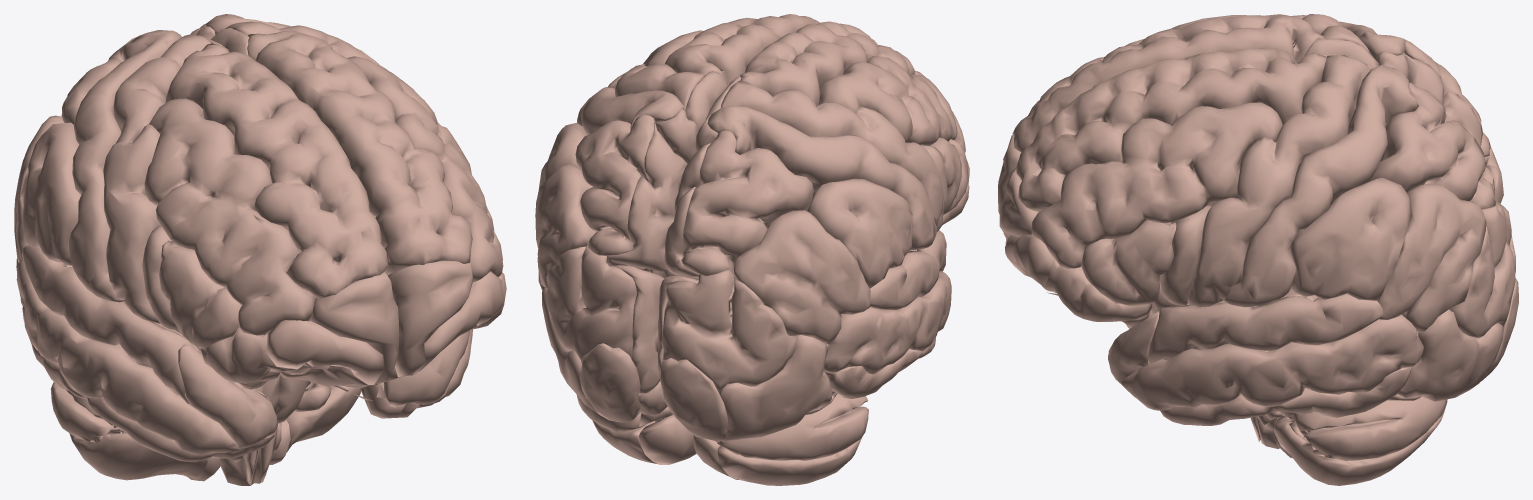
The model's file is PROP_Brain_Real_20261005.glb.
The picture shows the model from 3 angles, left to right: view 1: azimuth 30°, elevation 25°; view 2: azimuth 150°, elevation 25°; view 3: azimuth 270°, elevation 25°; orthographic projection. The views are drawn at different scales.
Parts seen in each view (by area): view 1: PROP_Brain_Real__Allen_superior_frontal_gyrus_L, PROP_Brain_Real__Allen_middle_frontal_gyrus_L, PROP_Brain_Real__Allen_superior_frontal_gyrus_R, PROP_Brain_Real__Allen_middle_temporal_gyrus_L, PROP_Brain_Real__Allen_primary_motor_cortex_L, PROP_Brain_Real__Allen_postcentral_gyrus_L, PROP_Brain_Real__Allen_superior_temporal_gyrus_L, PROP_Brain_Real__Allen_middle_frontal_gyrus_R, PROP_Brain_Real__Allen_supramarginal_gyrus_L, PROP_Brain_Real__Allen_rostral_gyrus_R, PROP_Brain_Real__Allen_lateral_hemisphere_of_cerebellum_L, PROP_Brain_Real__Allen_inferior_frontal_gyrus_triangular_par (+19 smaller); view 2: PROP_Brain_Real__Allen_angular_gyrus_L, PROP_Brain_Real__Allen_supraparietal_lobule_L, PROP_Brain_Real__Allen_superior_occipital_gyrus_L, PROP_Brain_Real__Allen_postcentral_gyrus_L, PROP_Brain_Real__Allen_lateral_hemisphere_of_cerebellum_L, PROP_Brain_Real__Allen_superior_occipital_gyrus_R, PROP_Brain_Real__Allen_supraparietal_lobule_R, PROP_Brain_Real__Allen_primary_motor_cortex_L, PROP_Brain_Real__Allen_supramarginal_gyrus_L, PROP_Brain_Real__Allen_middle_frontal_gyrus_L, PROP_Brain_Real__Allen_superior_frontal_gyrus_L, PROP_Brain_Real__Allen_middle_temporal_gyrus_L (+24 smaller); view 3: PROP_Brain_Real__Allen_middle_frontal_gyrus_R, PROP_Brain_Real__Allen_superior_frontal_gyrus_R, PROP_Brain_Real__Allen_middle_temporal_gyrus_R, PROP_Brain_Real__Allen_primary_motor_cortex_R, PROP_Brain_Real__Allen_postcentral_gyrus_R, PROP_Brain_Real__Allen_supramarginal_gyrus_R, PROP_Brain_Real__Allen_angular_gyrus_R, PROP_Brain_Real__Allen_superior_temporal_gyrus_R, PROP_Brain_Real__Allen_lateral_hemisphere_of_cerebellum_R, PROP_Brain_Real__Allen_superior_frontal_gyrus_L, PROP_Brain_Real__Allen_supraparietal_lobule_R, PROP_Brain_Real__Allen_inferior_frontal_gyrus_triangular_par (+16 smaller).
Boxes of the visible parts, x1=… form: PROP_Brain_Real__Allen_superior_frontal_gyrus_L: x1=165, y1=43, x2=388, y2=301; PROP_Brain_Real__Allen_middle_frontal_gyrus_L: x1=144, y1=98, x2=315, y2=335; PROP_Brain_Real__Allen_superior_frontal_gyrus_R: x1=247, y1=31, x2=472, y2=273; PROP_Brain_Real__Allen_middle_temporal_gyrus_L: x1=16, y1=260, x2=239, y2=455; PROP_Brain_Real__Allen_primary_motor_cortex_L: x1=103, y1=34, x2=210, y2=324; PROP_Brain_Real__Allen_postcentral_gyrus_L: x1=68, y1=30, x2=181, y2=302; PROP_Brain_Real__Allen_superior_temporal_gyrus_L: x1=22, y1=245, x2=195, y2=404; PROP_Brain_Real__Allen_middle_frontal_gyrus_R: x1=347, y1=56, x2=503, y2=282; PROP_Brain_Real__Allen_supramarginal_gyrus_L: x1=21, y1=122, x2=81, y2=265; PROP_Brain_Real__Allen_rostral_gyrus_R: x1=388, y1=260, x2=473, y2=377; PROP_Brain_Real__Allen_lateral_hemisphere_of_cerebellum_L: x1=50, y1=382, x2=207, y2=480; PROP_Brain_Real__Allen_inferior_frontal_gyrus_triangular_par: x1=159, y1=240, x2=241, y2=349; PROP_Brain_Real__Allen_angular_gyrus_L: x1=733, y1=210, x2=870, y2=343; PROP_Brain_Real__Allen_supraparietal_lobule_L: x1=681, y1=130, x2=813, y2=276; PROP_Brain_Real__Allen_superior_occipital_gyrus_L: x1=662, y1=269, x2=798, y2=394; PROP_Brain_Real__Allen_postcentral_gyrus_L: x1=707, y1=105, x2=937, y2=250; PROP_Brain_Real__Allen_lateral_hemisphere_of_cerebellum_L: x1=717, y1=393, x2=868, y2=485; PROP_Brain_Real__Allen_superior_occipital_gyrus_R: x1=546, y1=245, x2=636, y2=364; PROP_Brain_Real__Allen_supraparietal_lobule_R: x1=575, y1=114, x2=654, y2=256; PROP_Brain_Real__Allen_primary_motor_cortex_L: x1=721, y1=80, x2=944, y2=231; PROP_Brain_Real__Allen_supramarginal_gyrus_L: x1=807, y1=178, x2=912, y2=288; PROP_Brain_Real__Allen_middle_frontal_gyrus_L: x1=819, y1=56, x2=965, y2=152; PROP_Brain_Real__Allen_superior_frontal_gyrus_L: x1=739, y1=21, x2=924, y2=106; PROP_Brain_Real__Allen_middle_temporal_gyrus_L: x1=823, y1=271, x2=951, y2=374; PROP_Brain_Real__Allen_middle_frontal_gyrus_R: x1=1031, y1=102, x2=1282, y2=268; PROP_Brain_Real__Allen_superior_frontal_gyrus_R: x1=1016, y1=48, x2=1326, y2=211; PROP_Brain_Real__Allen_middle_temporal_gyrus_R: x1=1121, y1=314, x2=1423, y2=410; PROP_Brain_Real__Allen_primary_motor_cortex_R: x1=1187, y1=55, x2=1370, y2=307; PROP_Brain_Real__Allen_postcentral_gyrus_R: x1=1223, y1=65, x2=1418, y2=307; PROP_Brain_Real__Allen_supramarginal_gyrus_R: x1=1289, y1=177, x2=1410, y2=300; PROP_Brain_Real__Allen_angular_gyrus_R: x1=1377, y1=183, x2=1486, y2=332; PROP_Brain_Real__Allen_superior_temporal_gyrus_R: x1=1147, y1=293, x2=1383, y2=364; PROP_Brain_Real__Allen_lateral_hemisphere_of_cerebellum_R: x1=1266, y1=396, x2=1447, y2=485; PROP_Brain_Real__Allen_superior_frontal_gyrus_L: x1=1012, y1=14, x2=1324, y2=152; PROP_Brain_Real__Allen_supraparietal_lobule_R: x1=1369, y1=82, x2=1495, y2=209; PROP_Brain_Real__Allen_inferior_frontal_gyrus_triangular_par: x1=1081, y1=220, x2=1176, y2=305.
Size of the model in its own units: 5.6 by 6 by 6.87.
